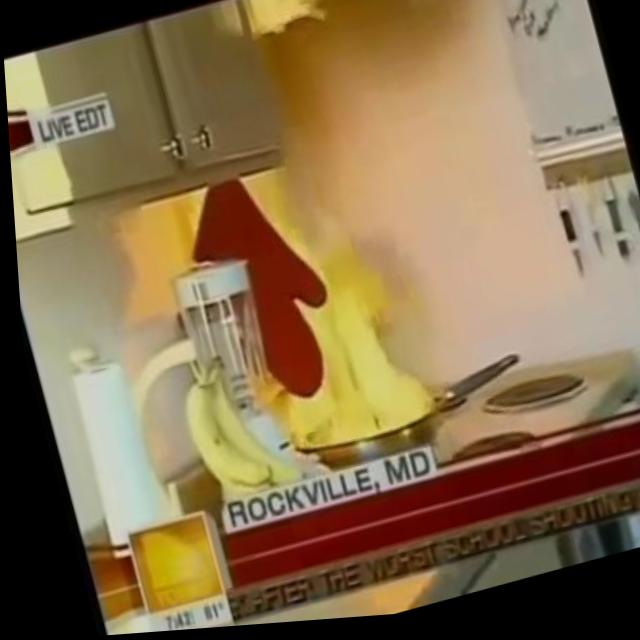fire: (178, 144, 439, 473), (224, 0, 333, 52)
